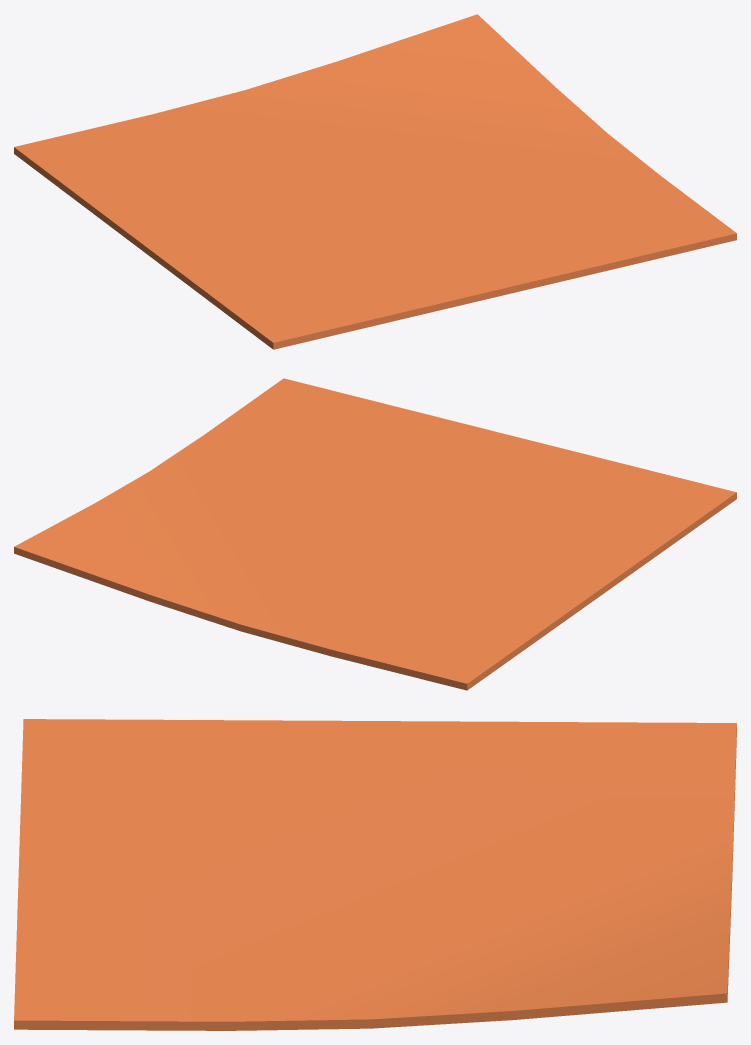
The model's file is PW_paper.fbx.
3 views of the same model, one above another, from view 1: azimuth 30°, elevation 25°; view 2: azimuth 150°, elevation 25°; view 3: azimuth 270°, elevation 25° (orthographic). The views are drawn at different scales.
Visible parts, largest first — view 1: paper; view 2: paper; view 3: paper.
Boxes of the visible parts, box(x1,y1,x2,y2) form: paper: box(14, 14, 736, 349); paper: box(14, 378, 736, 690); paper: box(14, 719, 736, 1030).
Size of the model in its own units: 20.53 by 1.26 by 20.53.
1 material, 1 textured.
